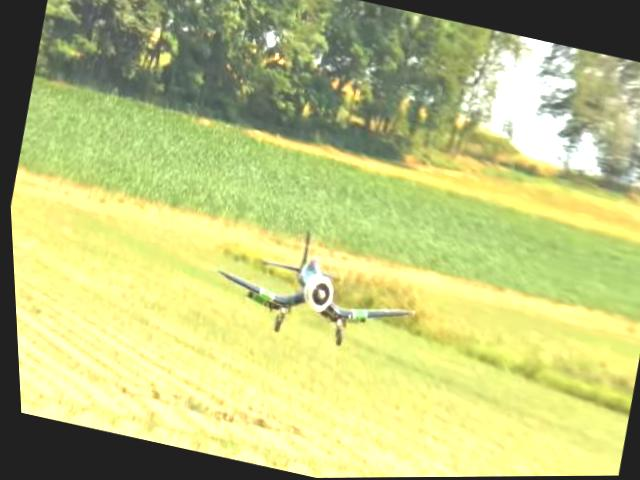uav: (188, 204, 433, 374)
